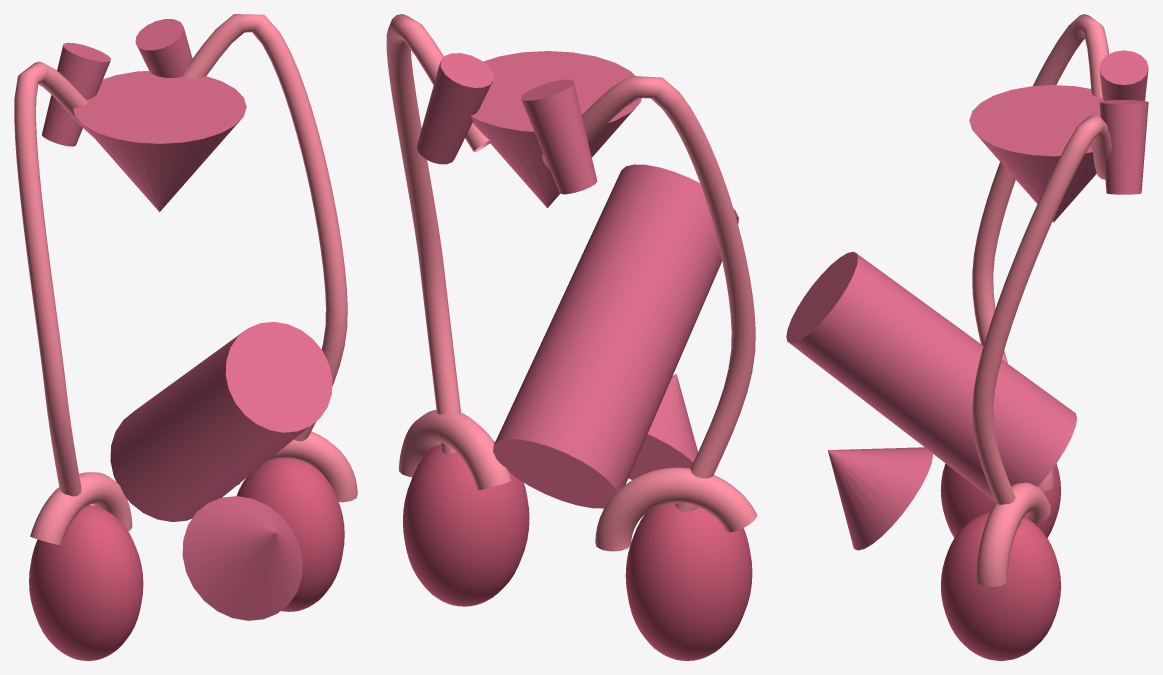
The model's file is 10_reproductive.glb.
3 renders of one model, left to right at view 1: azimuth 30°, elevation 25°; view 2: azimuth 150°, elevation 25°; view 3: azimuth 270°, elevation 25°, orthographic. The views are drawn at different scales.
Visible parts, largest first — view 1: corpus_cavernosum_penis, prostate_gland, left_testis_orchis, glans_penis, left_vas_deferens, right_vas_deferens, right_testis_orchis, left_epididymis, left_seminal_vesicle, right_seminal_vesicle, right_epididymis; view 2: corpus_cavernosum_penis, left_testis_orchis, right_testis_orchis, left_vas_deferens, right_vas_deferens, prostate_gland, left_epididymis, left_seminal_vesicle, right_seminal_vesicle, right_epididymis, glans_penis; view 3: corpus_cavernosum_penis, right_testis_orchis, right_vas_deferens, prostate_gland, glans_penis, left_vas_deferens, right_epididymis, right_seminal_vesicle, left_testis_orchis, left_seminal_vesicle.
Boxes of the visible parts, x1,y1,x2,y2 form: corpus_cavernosum_penis: (110, 321, 332, 521); prostate_gland: (73, 71, 246, 211); left_testis_orchis: (29, 505, 143, 660); glans_penis: (182, 496, 302, 620); left_vas_deferens: (14, 61, 93, 508); right_vas_deferens: (182, 14, 347, 458); right_testis_orchis: (236, 458, 344, 611); left_epididymis: (30, 472, 132, 545); left_seminal_vesicle: (42, 42, 110, 146); right_seminal_vesicle: (135, 19, 192, 77); right_epididymis: (238, 431, 357, 502); corpus_cavernosum_penis: (493, 164, 738, 508); left_testis_orchis: (625, 503, 752, 660); right_testis_orchis: (402, 441, 529, 606); left_vas_deferens: (542, 76, 755, 511); right_vas_deferens: (386, 14, 489, 453); prostate_gland: (471, 51, 641, 207); left_epididymis: (595, 467, 757, 551); left_seminal_vesicle: (521, 79, 597, 194); right_seminal_vesicle: (417, 53, 493, 164); right_epididymis: (399, 409, 511, 490); glans_penis: (628, 374, 697, 479); corpus_cavernosum_penis: (786, 251, 1076, 500); right_testis_orchis: (940, 512, 1060, 660); right_vas_deferens: (972, 115, 1111, 526); prostate_gland: (969, 85, 1103, 222); glans_penis: (828, 447, 932, 550); left_vas_deferens: (972, 14, 1108, 363); right_epididymis: (976, 482, 1050, 586); right_seminal_vesicle: (1099, 100, 1148, 194); left_testis_orchis: (940, 463, 1060, 537); left_seminal_vesicle: (1099, 50, 1148, 100).
Bounding box in the file's own units: 0.1021 × 0.1695 × 0.103.
